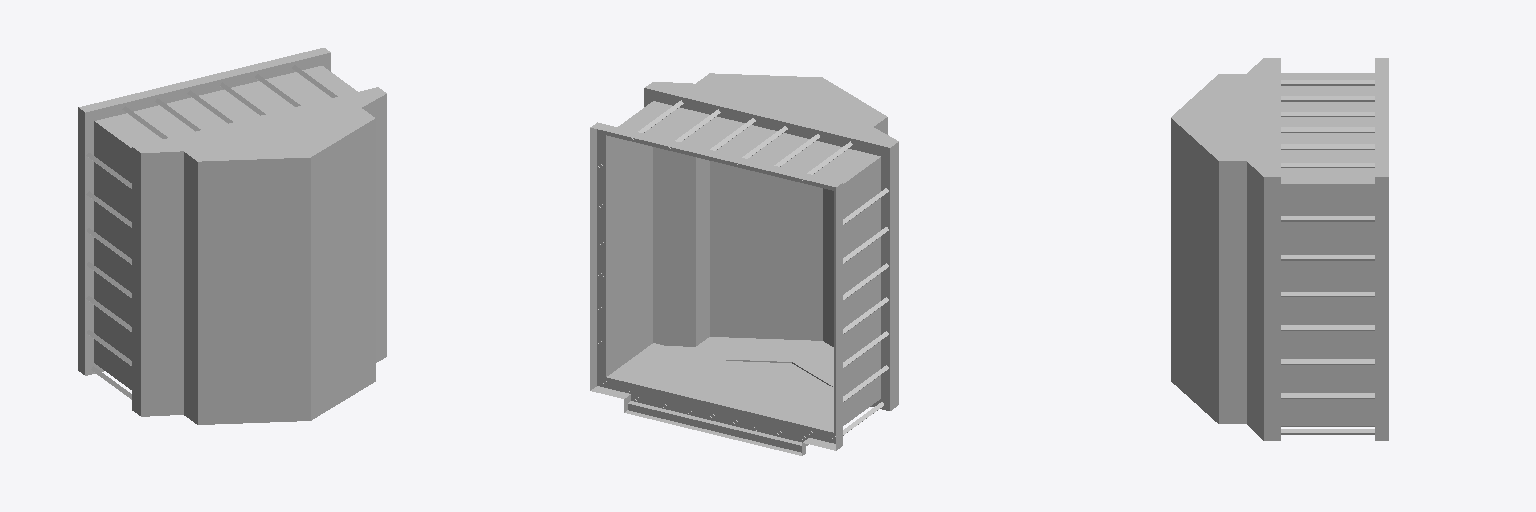
Rendered from tower19.obj.
3 views of the same model, side by side, from view 1: azimuth 30°, elevation 25°; view 2: azimuth 150°, elevation 25°; view 3: azimuth 270°, elevation 25° (orthographic).
Visible parts, largest first — view 1: tower19; view 2: tower19; view 3: tower19.
Part boxes in pixels (left/top/right/bottom): tower19: left=78, top=48, right=386, bottom=424; tower19: left=590, top=73, right=898, bottom=455; tower19: left=1171, top=58, right=1388, bottom=440.
Size of the model in its own units: 29.85 by 32.15 by 23.01.